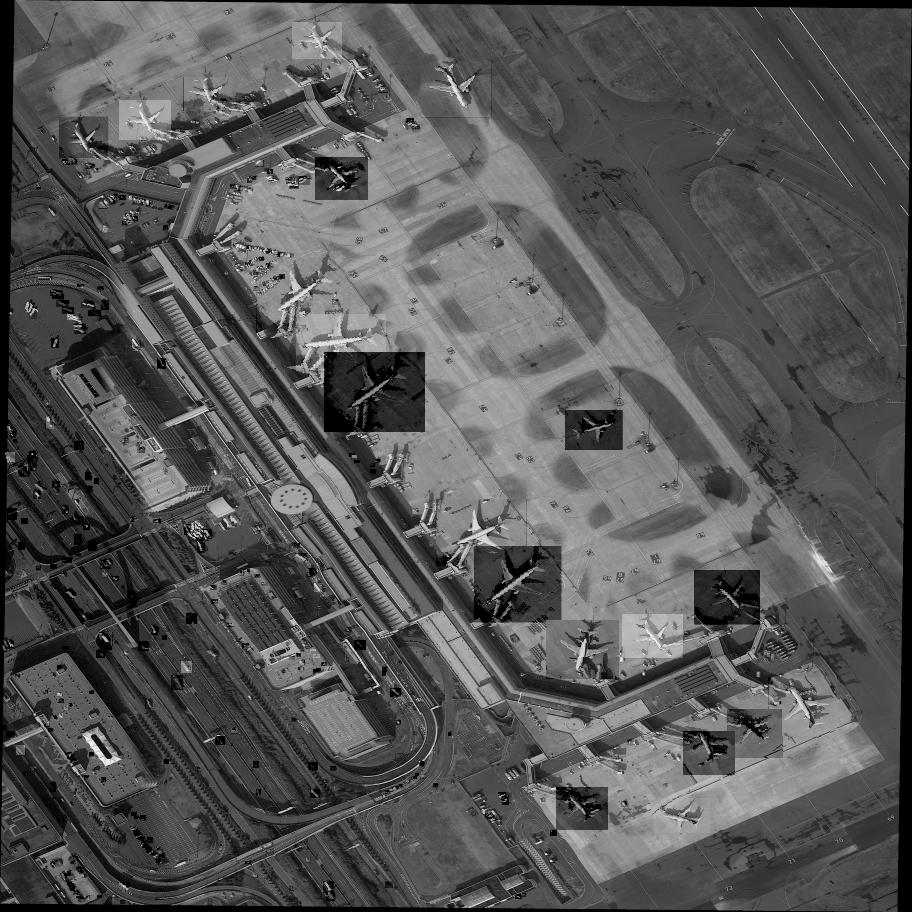large-vehicle: (171, 674, 184, 691), (100, 632, 114, 647), (18, 464, 30, 478), (34, 482, 47, 494), (186, 612, 197, 626), (206, 650, 220, 661), (182, 660, 193, 674), (323, 881, 334, 895), (354, 640, 367, 651), (65, 589, 77, 600), (229, 515, 240, 527), (138, 640, 150, 651), (8, 508, 18, 521), (67, 312, 80, 322), (46, 416, 55, 430), (82, 612, 93, 623), (215, 735, 226, 746), (4, 452, 15, 463), (202, 529, 213, 540), (195, 520, 207, 530), (69, 316, 82, 325), (88, 310, 101, 319), (56, 300, 69, 309), (28, 458, 37, 471), (311, 789, 322, 799), (335, 185, 346, 195), (390, 688, 401, 698), (196, 531, 206, 542), (16, 745, 26, 756), (224, 518, 233, 530), (119, 882, 131, 891), (295, 554, 307, 563), (200, 530, 209, 542), (198, 541, 206, 554), (186, 524, 196, 534), (88, 541, 97, 552), (219, 521, 228, 532), (81, 302, 95, 309), (75, 326, 87, 334), (101, 560, 111, 569), (30, 310, 39, 320), (75, 440, 84, 450), (326, 892, 335, 902), (308, 762, 318, 771), (193, 532, 202, 542), (146, 699, 154, 710), (300, 178, 311, 186), (157, 358, 165, 369), (51, 339, 59, 350), (101, 300, 109, 311), (50, 291, 62, 298), (30, 451, 39, 460), (190, 534, 199, 543), (128, 589, 136, 599), (96, 650, 106, 658), (289, 182, 299, 190), (27, 455, 37, 463), (62, 505, 70, 515), (315, 583, 323, 593), (2, 640, 10, 650), (62, 308, 75, 314), (75, 534, 82, 545), (184, 524, 191, 535), (255, 160, 264, 168), (133, 339, 141, 348), (33, 491, 41, 500), (60, 873, 68, 882), (7, 639, 15, 648), (298, 176, 308, 183), (62, 558, 73, 564), (192, 522, 198, 533), (111, 193, 119, 201), (99, 203, 107, 211), (52, 481, 60, 489), (621, 801, 629, 809), (105, 642, 112, 651), (85, 472, 92, 481), (18, 542, 25, 551), (6, 731, 15, 738), (131, 598, 137, 608), (29, 305, 35, 315), (288, 181, 298, 187), (308, 568, 314, 578), (2, 643, 8, 653), (247, 695, 254, 703), (502, 795, 510, 802), (152, 626, 158, 635), (339, 164, 348, 170), (287, 179, 296, 185), (195, 521, 201, 530), (51, 782, 56, 792), (515, 894, 522, 901), (26, 302, 32, 310), (498, 792, 506, 798), (107, 560, 113, 567), (105, 200, 111, 207), (503, 799, 510, 805), (550, 829, 556, 836), (60, 797, 66, 804), (111, 197, 116, 205), (499, 795, 507, 800), (52, 295, 64, 298), (486, 813, 492, 819), (407, 119, 414, 124), (73, 325, 83, 328), (72, 159, 77, 165), (306, 857, 311, 863), (290, 886, 295, 892), (409, 123, 415, 128), (539, 798, 544, 804), (488, 815, 494, 820), (266, 176, 273, 180), (270, 181, 279, 184), (380, 89, 388, 92), (285, 177, 292, 180), (483, 809, 489, 812), (294, 885, 298, 889), (412, 127, 420, 129), (68, 871, 71, 876), (340, 410, 343, 414), (39, 278, 50, 279), (522, 893, 525, 896), (414, 125, 417, 127), (269, 180, 273, 181)
plane: (324, 346, 426, 442), (258, 249, 352, 340), (436, 495, 527, 577), (475, 540, 562, 625), (297, 313, 386, 377), (769, 674, 838, 739), (547, 620, 620, 681), (421, 58, 492, 120), (694, 568, 760, 630), (728, 705, 784, 761), (622, 610, 683, 661), (683, 725, 735, 780), (60, 111, 109, 164), (566, 408, 623, 452), (316, 154, 368, 202), (556, 785, 609, 832), (120, 98, 171, 141), (293, 21, 343, 64), (655, 798, 710, 836), (184, 74, 233, 112)
small-vehicle: (444, 553, 452, 561), (2, 420, 10, 427), (333, 299, 340, 307), (246, 648, 254, 655), (119, 195, 126, 202), (87, 486, 94, 493), (386, 882, 393, 889), (628, 739, 635, 746), (221, 579, 228, 586), (242, 643, 249, 650), (153, 519, 161, 525), (11, 430, 17, 438), (261, 582, 269, 588), (237, 637, 245, 643), (93, 168, 99, 175), (86, 163, 92, 170), (72, 514, 78, 521), (84, 524, 91, 530), (22, 518, 28, 525), (102, 572, 109, 578), (112, 576, 119, 582), (138, 448, 144, 455), (293, 543, 300, 549), (345, 626, 351, 633), (211, 584, 217, 591), (211, 599, 218, 605), (245, 645, 252, 651), (136, 834, 143, 840), (134, 831, 141, 837), (253, 762, 259, 769), (136, 209, 142, 215), (247, 178, 253, 184), (62, 159, 68, 165), (75, 519, 81, 525), (268, 279, 274, 285), (98, 286, 104, 292), (252, 259, 258, 265), (279, 274, 285, 280), (254, 286, 260, 292), (74, 890, 80, 896), (420, 774, 426, 780), (370, 469, 376, 475), (299, 660, 305, 666), (321, 662, 327, 668), (44, 400, 50, 406), (147, 848, 153, 854), (136, 833, 142, 839), (101, 777, 107, 783), (68, 754, 74, 760), (162, 634, 167, 641), (50, 565, 57, 570), (313, 654, 320, 659), (62, 646, 69, 651), (268, 169, 273, 175), (129, 218, 135, 223), (133, 217, 139, 222), (164, 225, 169, 231), (124, 650, 129, 656), (94, 478, 99, 484), (36, 566, 41, 572), (270, 278, 276, 283), (253, 270, 258, 276), (256, 268, 262, 273), (269, 263, 274, 269), (250, 260, 255, 266), (259, 257, 265, 262), (277, 275, 282, 281), (70, 886, 76, 891), (396, 720, 401, 726), (292, 717, 297, 723), (315, 567, 320, 573), (429, 542, 435, 547), (413, 509, 418, 515), (232, 728, 237, 734), (59, 699, 65, 704), (54, 715, 59, 721), (247, 569, 253, 574), (90, 752, 95, 758), (164, 758, 169, 764), (65, 751, 71, 756), (69, 801, 74, 807), (133, 830, 140, 834), (124, 220, 129, 225), (130, 211, 135, 216), (124, 215, 129, 220), (127, 213, 132, 218), (231, 185, 236, 190), (249, 176, 254, 181), (281, 253, 286, 258), (269, 250, 274, 255), (266, 249, 271, 254), (90, 164, 95, 169), (259, 266, 264, 271), (261, 266, 266, 271), (274, 260, 279, 265), (255, 258, 260, 263), (257, 257, 262, 262), (125, 438, 130, 443), (260, 283, 265, 288), (85, 896, 90, 901), (434, 783, 439, 788), (121, 900, 126, 905), (52, 863, 57, 868), (331, 766, 336, 771), (350, 453, 355, 458), (382, 672, 387, 677), (383, 668, 388, 673), (158, 851, 163, 856), (299, 667, 304, 672), (314, 670, 319, 675), (316, 668, 321, 673), (57, 665, 62, 670), (15, 674, 20, 679), (60, 713, 65, 718), (239, 571, 244, 576), (2, 725, 7, 730), (24, 772, 29, 777), (128, 219, 132, 225), (267, 264, 271, 270), (249, 261, 253, 267), (245, 861, 251, 865), (76, 867, 82, 871), (354, 460, 360, 464), (227, 623, 235, 626), (148, 851, 154, 855), (142, 841, 148, 845), (132, 828, 138, 832), (132, 812, 138, 816), (123, 221, 127, 226), (126, 213, 130, 218), (239, 186, 243, 191), (244, 188, 248, 193), (249, 189, 253, 194), (255, 247, 259, 252), (142, 199, 146, 204), (113, 476, 118, 480), (275, 276, 279, 281), (246, 262, 250, 267), (141, 447, 145, 452), (78, 896, 83, 900), (72, 861, 77, 865), (371, 463, 375, 468), (89, 691, 94, 695), (69, 703, 73, 708), (109, 717, 114, 721), (139, 837, 144, 841), (130, 826, 135, 830), (141, 815, 146, 819), (134, 816, 139, 820), (64, 162, 68, 166), (147, 139, 151, 143), (142, 138, 146, 142), (78, 521, 82, 525), (8, 427, 12, 431), (146, 454, 150, 458), (416, 773, 420, 777), (413, 776, 417, 780), (76, 895, 80, 899), (70, 885, 74, 889), (420, 762, 424, 766), (43, 690, 47, 694), (157, 860, 161, 864), (257, 790, 261, 794), (33, 767, 37, 771), (277, 252, 280, 257), (131, 517, 134, 522), (63, 572, 66, 577), (160, 453, 165, 456), (82, 876, 87, 879), (68, 882, 73, 885), (684, 631, 689, 634), (296, 653, 301, 656), (290, 656, 295, 659), (255, 575, 260, 578), (142, 843, 147, 846), (310, 148, 317, 150), (274, 251, 278, 254), (134, 198, 137, 202), (13, 440, 17, 443), (75, 553, 81, 555), (287, 253, 290, 257), (132, 241, 135, 245), (138, 443, 142, 446), (78, 284, 84, 286), (76, 893, 80, 896), (164, 204, 167, 208), (353, 455, 357, 458), (376, 459, 379, 463), (65, 706, 68, 710), (49, 729, 53, 732), (197, 768, 201, 771), (79, 873, 84, 875), (318, 563, 323, 565), (311, 649, 316, 651), (153, 853, 158, 855), (141, 819, 146, 821), (140, 839, 145, 841), (70, 758, 75, 760), (253, 177, 256, 180), (265, 248, 268, 251), (150, 201, 153, 204), (129, 197, 132, 200), (146, 201, 149, 204), (266, 280, 269, 283), (400, 785, 403, 788), (254, 875, 257, 878), (82, 875, 85, 878), (418, 699, 421, 702), (314, 571, 317, 574), (161, 853, 164, 856), (157, 850, 160, 853), (154, 857, 157, 860), (169, 205, 171, 209), (271, 263, 275, 265), (264, 282, 266, 286), (150, 870, 154, 872), (78, 869, 82, 871), (69, 883, 73, 885), (58, 694, 62, 696), (45, 724, 49, 726), (155, 858, 159, 860), (149, 837, 153, 839), (119, 765, 123, 767), (290, 255, 292, 258), (235, 186, 237, 189), (237, 185, 239, 188), (257, 248, 259, 251), (247, 246, 249, 249), (264, 266, 267, 268), (244, 264, 247, 266), (396, 786, 398, 789), (393, 787, 396, 789), (390, 789, 393, 791), (449, 732, 451, 735), (162, 856, 165, 858), (151, 852, 154, 854), (145, 845, 148, 847), (149, 841, 152, 843), (93, 757, 96, 759), (79, 871, 84, 872), (242, 187, 244, 189), (247, 189, 249, 191), (65, 164, 69, 165), (259, 249, 261, 251), (250, 246, 251, 250), (137, 200, 139, 202), (139, 200, 141, 202), (234, 244, 236, 246), (98, 896, 102, 897), (407, 780, 409, 782), (45, 867, 47, 869), (67, 880, 69, 882), (167, 204, 169, 206), (158, 862, 162, 863), (146, 848, 150, 849), (85, 776, 89, 777), (135, 818, 139, 819), (274, 278, 277, 279), (219, 849, 222, 850), (80, 900, 83, 901), (157, 848, 160, 849), (172, 206, 173, 208), (285, 254, 286, 256), (279, 254, 280, 256), (263, 250, 264, 252), (272, 252, 273, 253), (219, 852, 220, 853), (221, 841, 222, 842), (73, 880, 74, 881), (411, 779, 411, 779), (405, 783, 406, 783), (388, 791, 389, 791), (221, 845, 221, 846), (383, 793, 384, 793)
